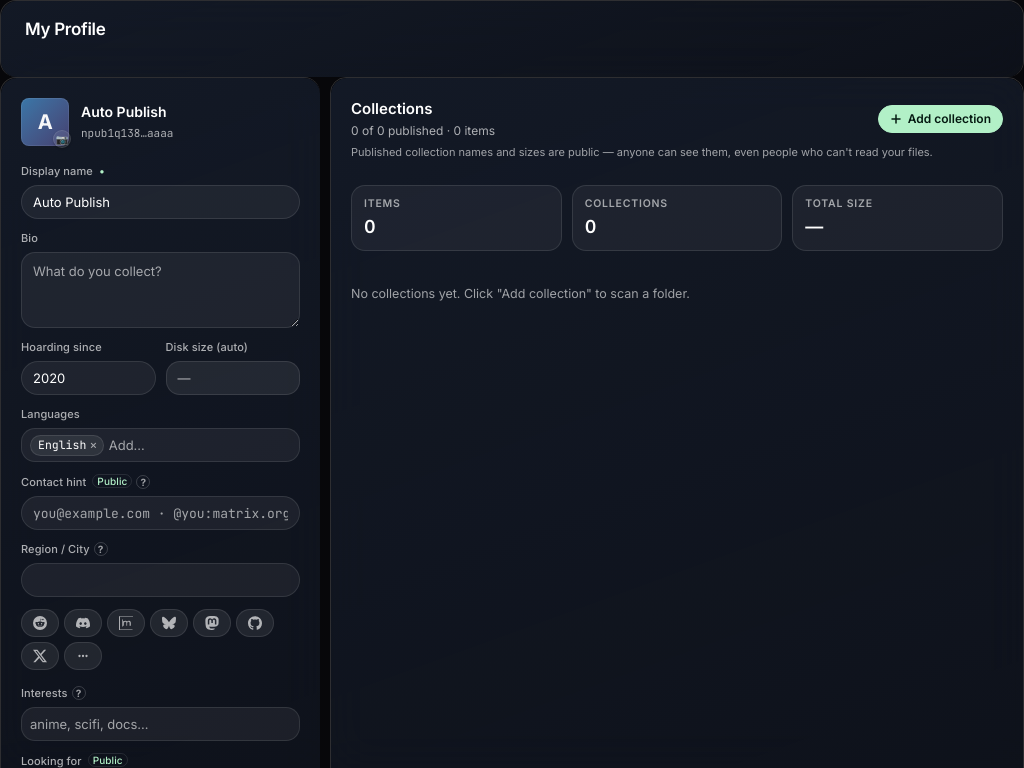
QURATOR-138 — My Profile publishes by default › a publish FAILURE toasts an error while the local edit stays saved
This screenshot has width=1024, height=768.
Step 1. Replace the text in the field with placeholder "e.g. DataHoarder_42" below "Display name" with "Doomed Edit" → coordinates (160, 202), box top-left (21, 185), bottom-right (300, 219)
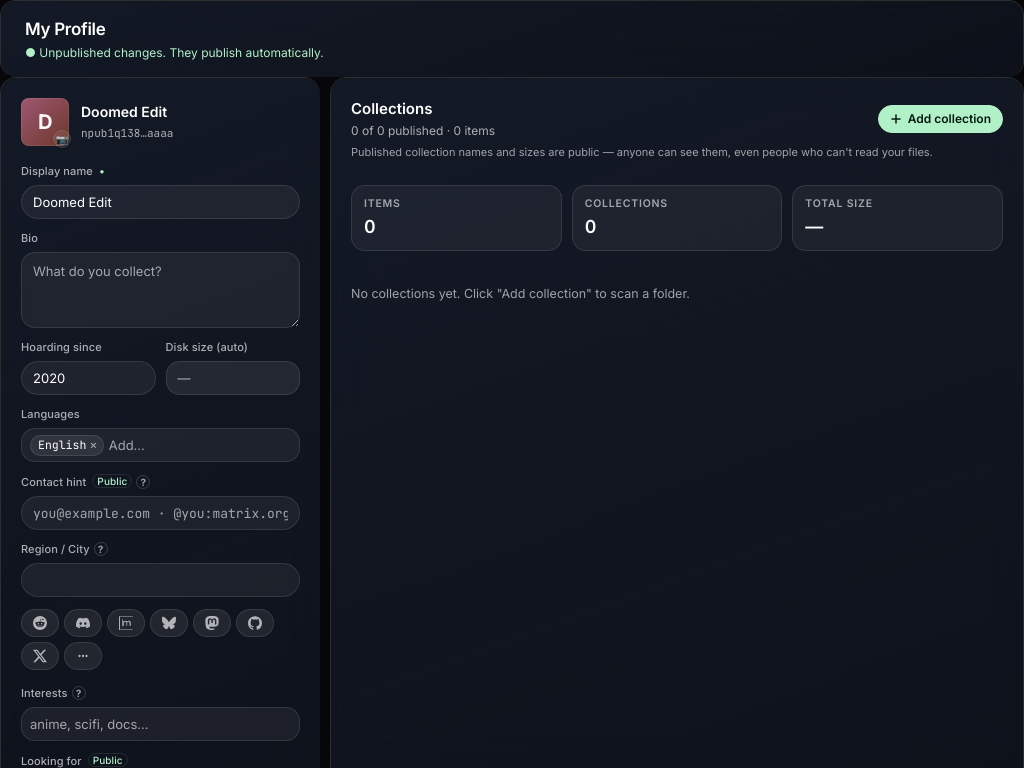
Result: the text "Doomed Edit" is shown at top-left (81, 103), bottom-right (167, 120)
